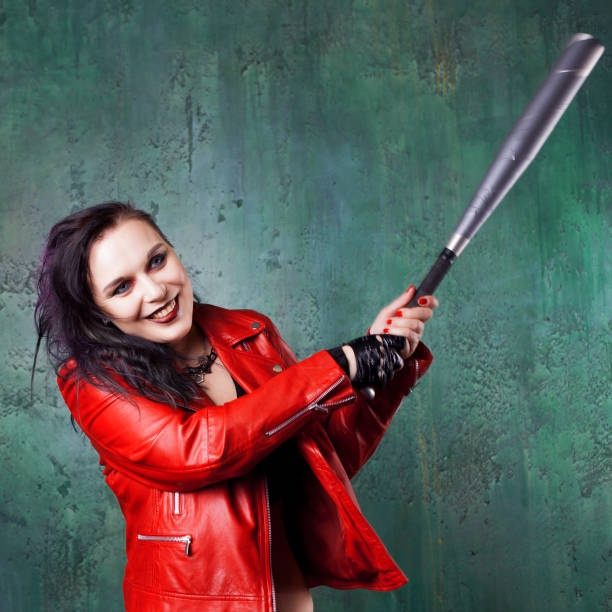bita: (397, 33, 597, 333)
